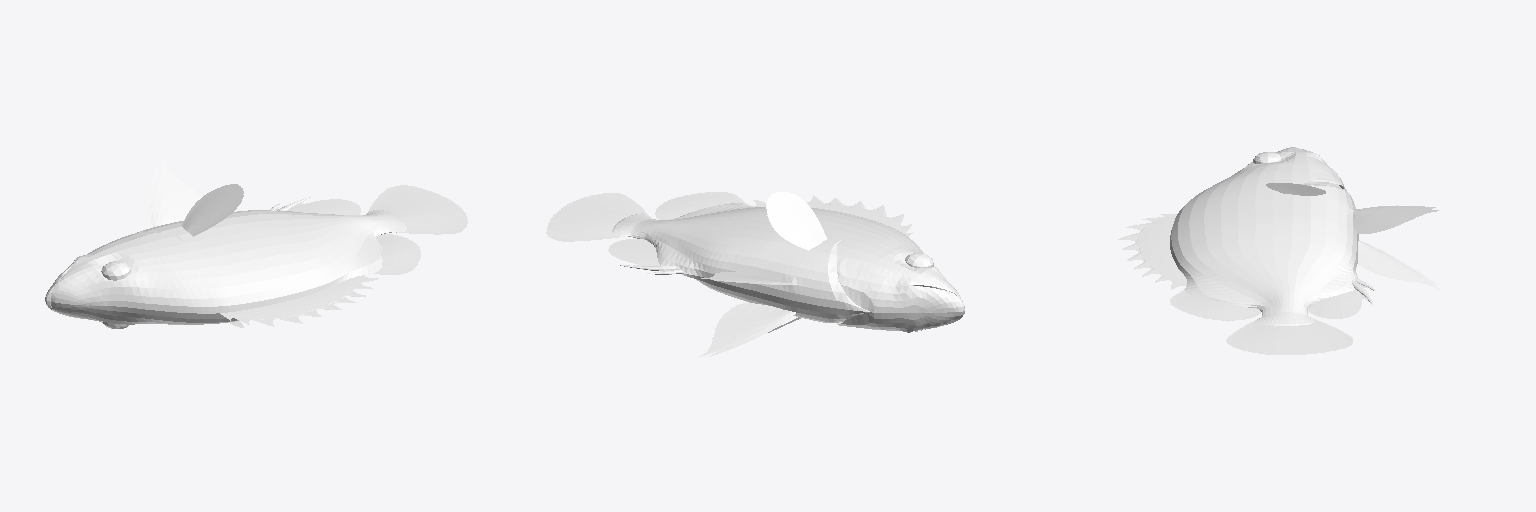
Rendered from SiameseTiger.obj.
3 renders of one model, left to right at view 1: azimuth 30°, elevation 25°; view 2: azimuth 150°, elevation 25°; view 3: azimuth 270°, elevation 25°, orthographic.
Bounding box in the file's own units: 0.3996 × 0.1279 × 0.2755.